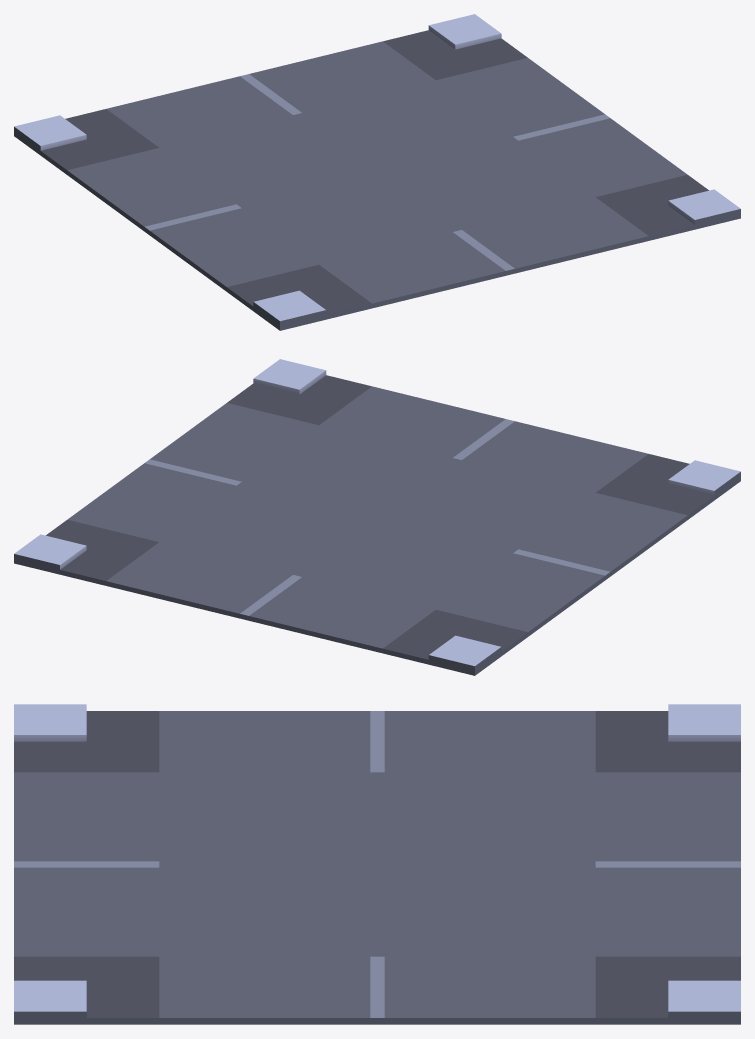
The model's file is k_r_road-crossroad.glb.
3 renders of one model, top to bottom at view 1: azimuth 30°, elevation 25°; view 2: azimuth 150°, elevation 25°; view 3: azimuth 270°, elevation 25°, orthographic. The views are drawn at different scales.
Parts seen in each view (by area): view 1: road-crossroad; view 2: road-crossroad; view 3: road-crossroad.
Boxes of the visible parts, x1,y1,x2,y2 form: road-crossroad: [14, 14, 740, 330]; road-crossroad: [14, 359, 740, 675]; road-crossroad: [14, 704, 740, 1024].
Size of the model in its own units: 1 by 0.02 by 1.
Materials: 1 (1 with a texture image).
